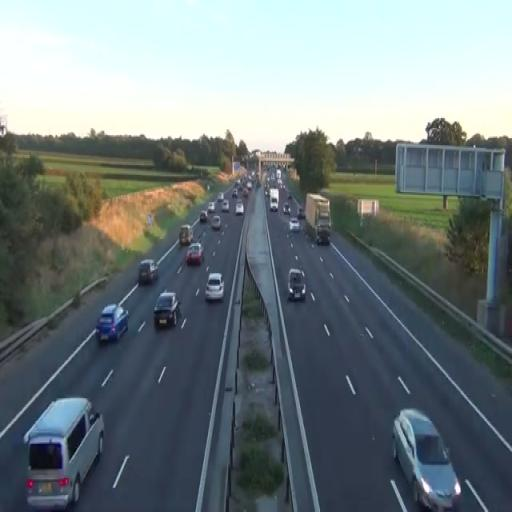Car: (24, 396, 105, 509), (391, 407, 462, 510), (95, 303, 129, 344), (154, 292, 180, 328), (205, 272, 225, 302), (288, 269, 306, 301), (138, 260, 159, 285), (185, 242, 204, 266), (235, 202, 244, 215)
Truck: (23, 396, 105, 510), (305, 193, 331, 244), (270, 188, 279, 212)
